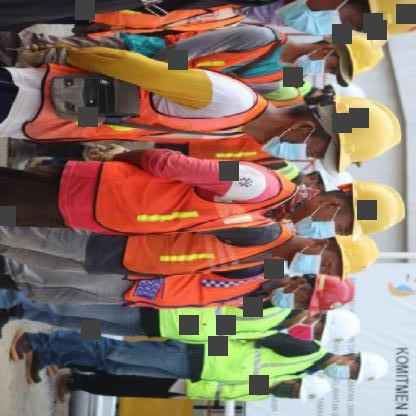red: (303, 276, 362, 318)
vest: (20, 67, 270, 152), (91, 154, 299, 242), (121, 227, 300, 286), (120, 265, 282, 314), (82, 4, 244, 42), (194, 340, 328, 385), (151, 306, 293, 346), (186, 381, 276, 403)
white: (314, 309, 368, 346), (352, 346, 393, 390)
yellow: (330, 88, 405, 175), (343, 176, 408, 245), (332, 28, 388, 82), (328, 234, 386, 282)
